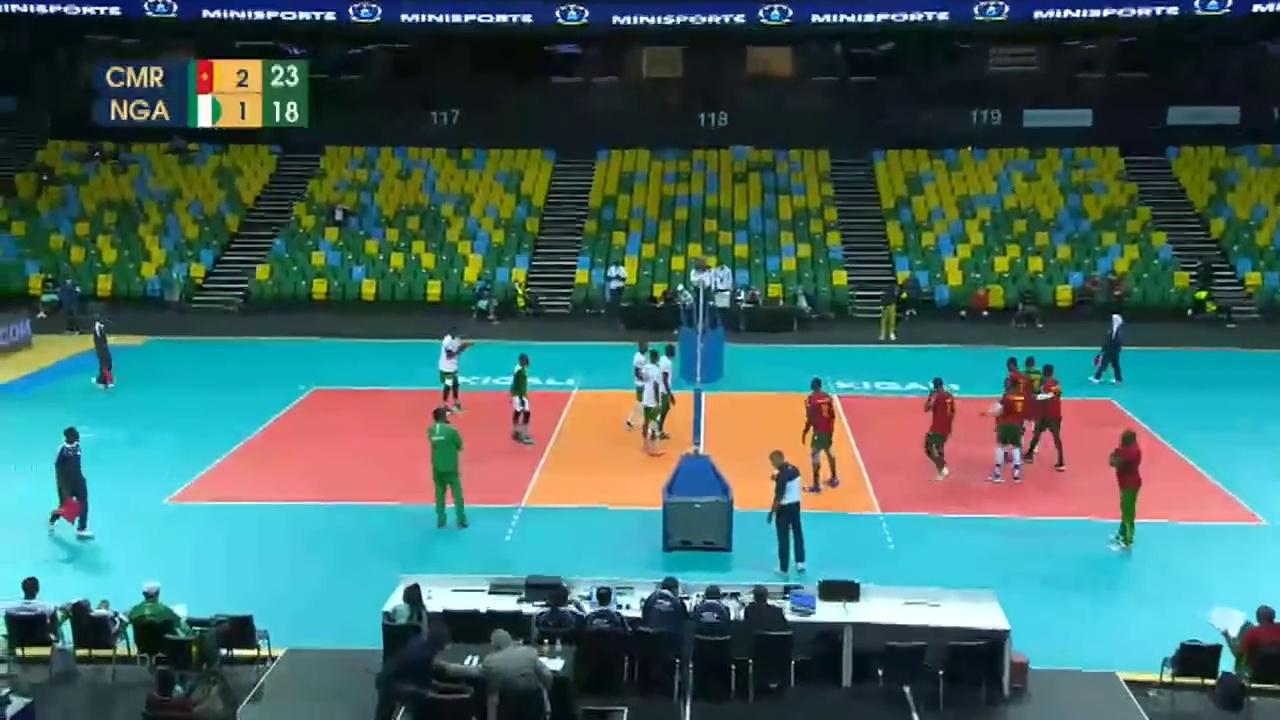player: (1024, 361, 1066, 471), (802, 377, 843, 489), (925, 377, 960, 480), (991, 376, 1021, 484), (627, 336, 655, 437), (1021, 354, 1047, 457), (1001, 358, 1026, 460), (440, 326, 469, 411), (654, 341, 676, 444), (642, 347, 663, 454), (511, 352, 534, 442)
refree: (767, 452, 810, 573), (51, 427, 90, 538), (1089, 311, 1125, 387), (686, 254, 718, 328), (94, 316, 116, 389)
